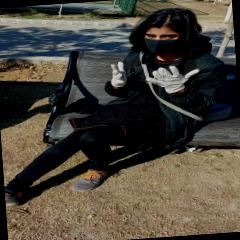gloved: (146, 64, 200, 94), (110, 61, 128, 88)
